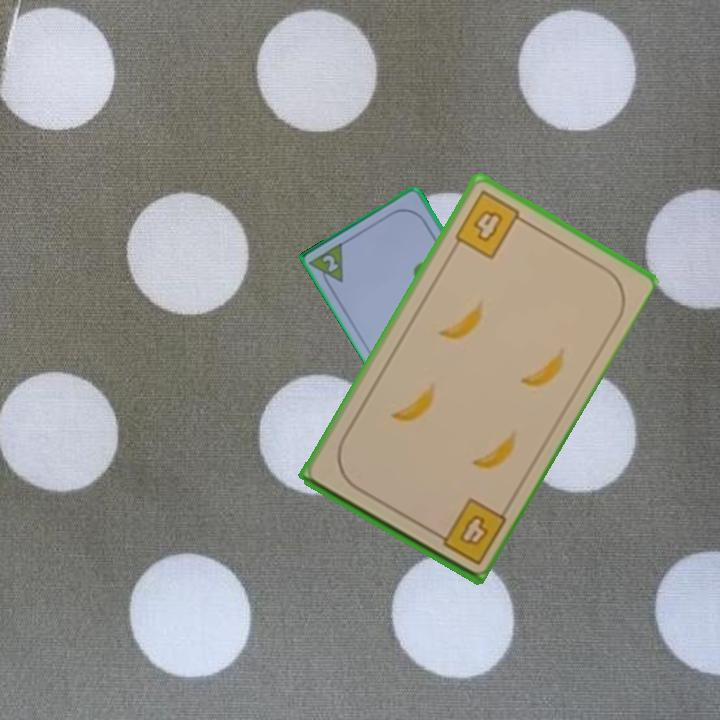2p: (319, 251, 342, 275)
4b: (450, 186, 530, 263), (427, 494, 509, 568)
